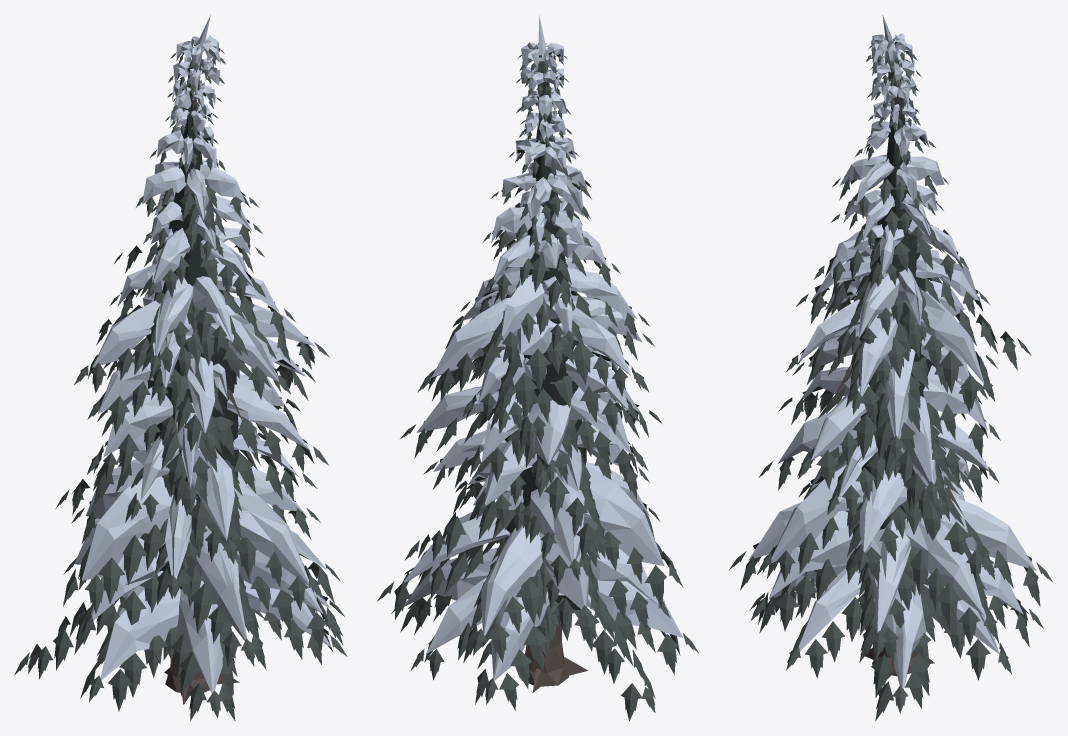
Rendered from pine.glb.
The picture shows the model from 3 angles, left to right: view 1: azimuth 30°, elevation 25°; view 2: azimuth 150°, elevation 25°; view 3: azimuth 270°, elevation 25°; orthographic projection. The views are drawn at different scales.
Parts seen in each view (by area): view 1: Pine; view 2: Pine; view 3: Pine.
Part boxes in pixels (x1,y1,x2,y2): Pine: (14,14,347,721); Pine: (377,15,698,721); Pine: (729,15,1052,721).
Size of the model in its own units: 3.05 by 6.52 by 2.91.
